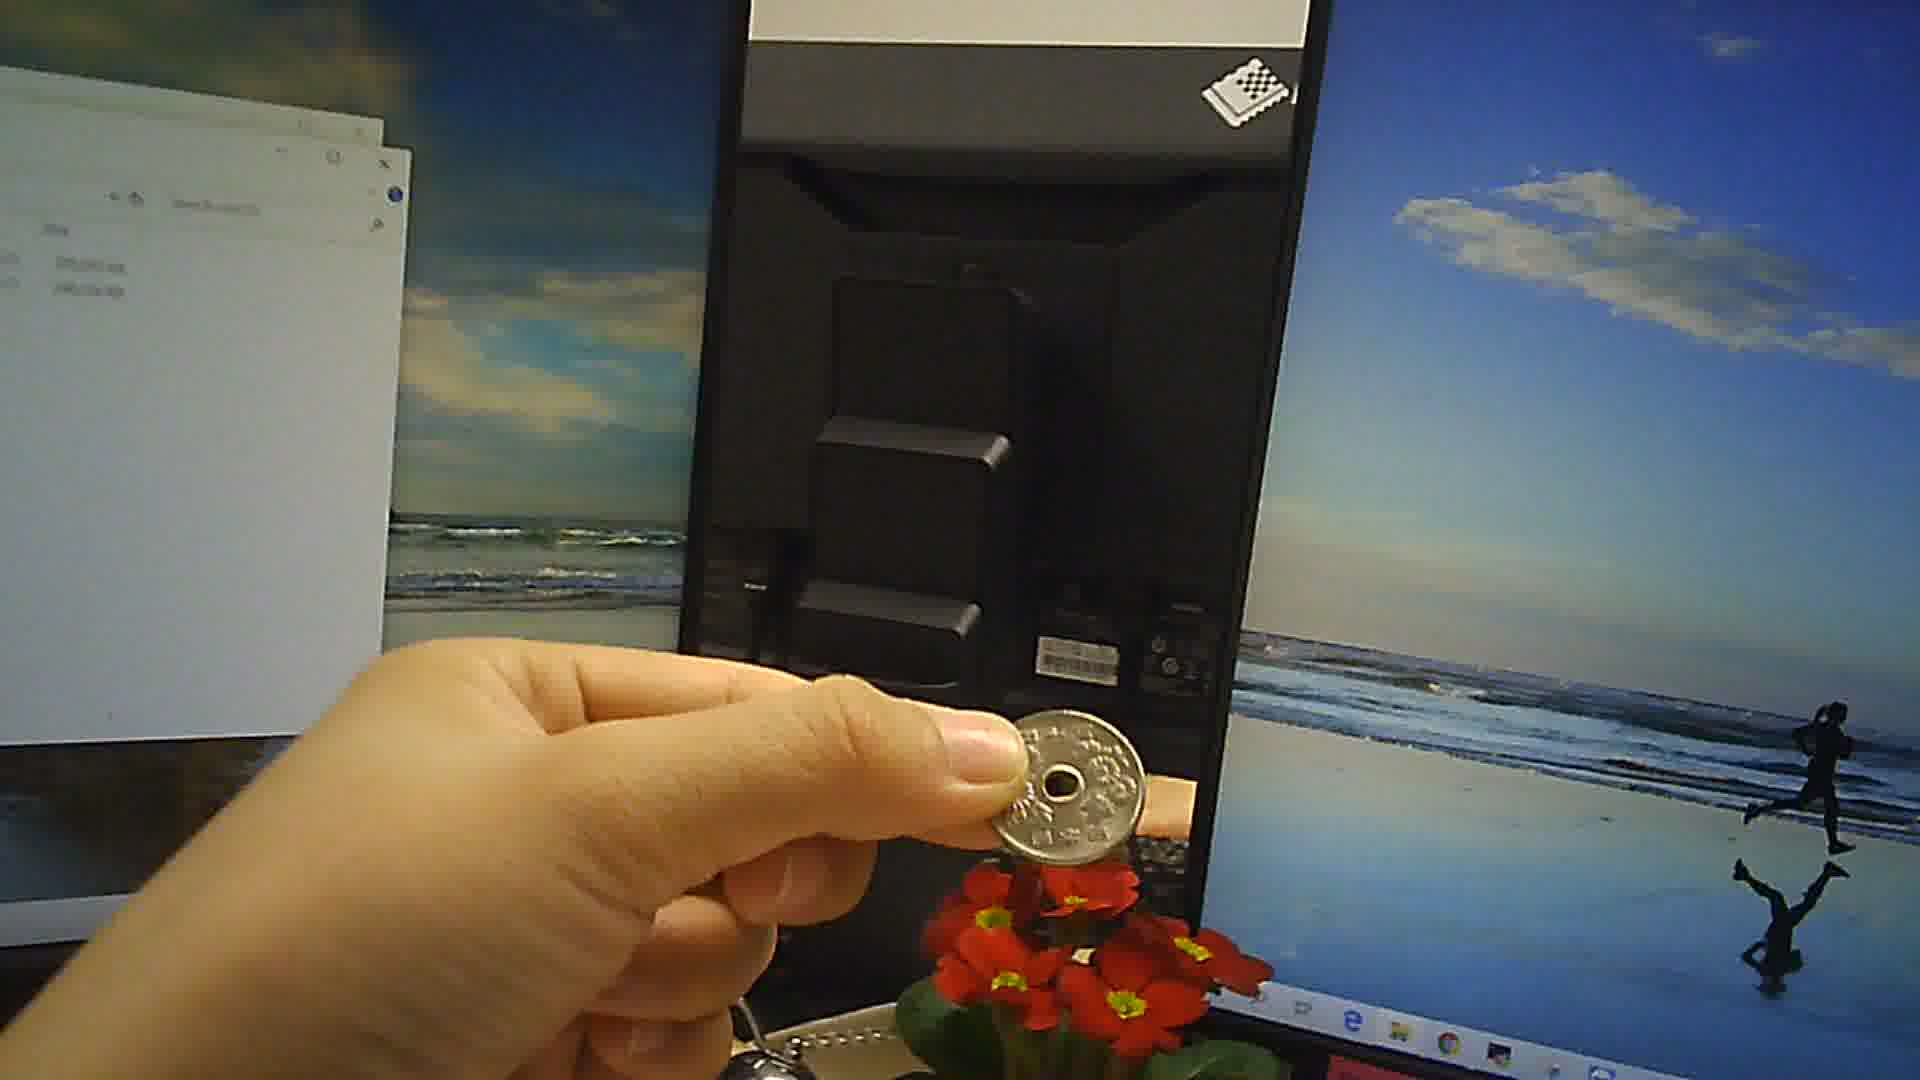50 Yen: (980, 699, 1153, 880)
